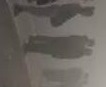person: (14, 2, 95, 28), (24, 43, 95, 59), (29, 34, 96, 48), (42, 67, 90, 79)
